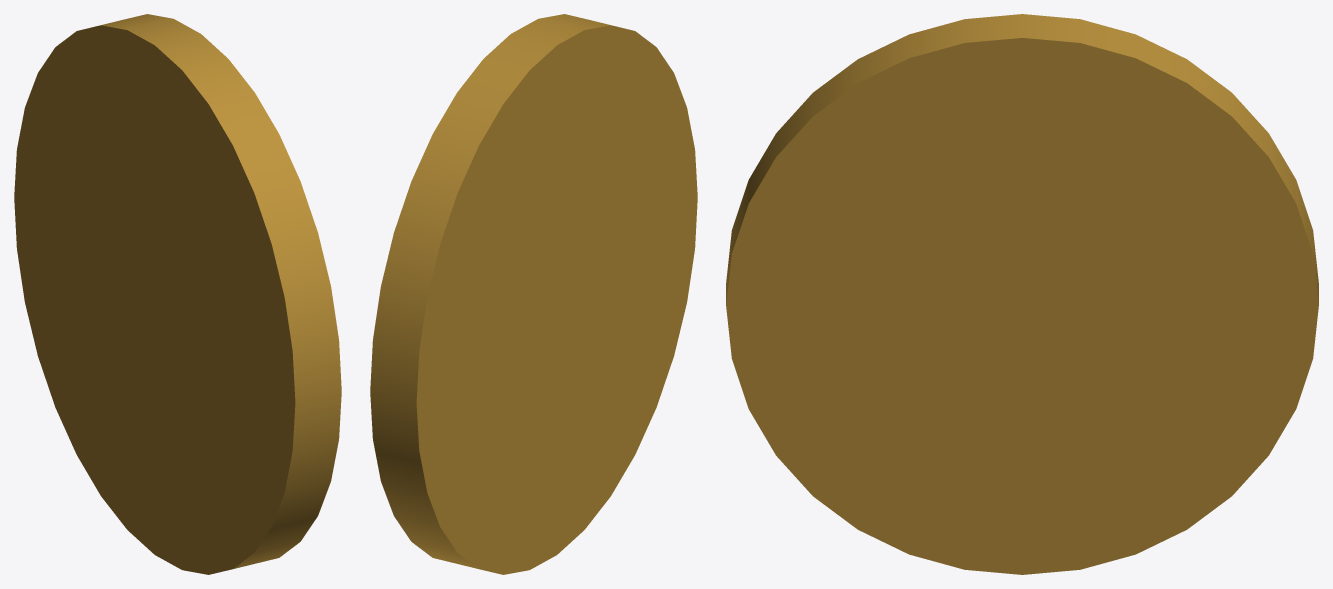
File: hefe_mount.obj
3 views of the same model, side by side, from view 1: azimuth 30°, elevation 25°; view 2: azimuth 150°, elevation 25°; view 3: azimuth 270°, elevation 25° (orthographic). The views are drawn at different scales.
Parts seen in each view (by area): view 1: hefe_mount; view 2: hefe_mount; view 3: hefe_mount.
Boxes of the visible parts, x1=… form: hefe_mount: x1=14, y1=14, x2=341, y2=574; hefe_mount: x1=370, y1=14, x2=697, y2=574; hefe_mount: x1=726, y1=14, x2=1318, y2=574.
Size of the model in its own units: 0.08 by 0.84 by 0.84.
